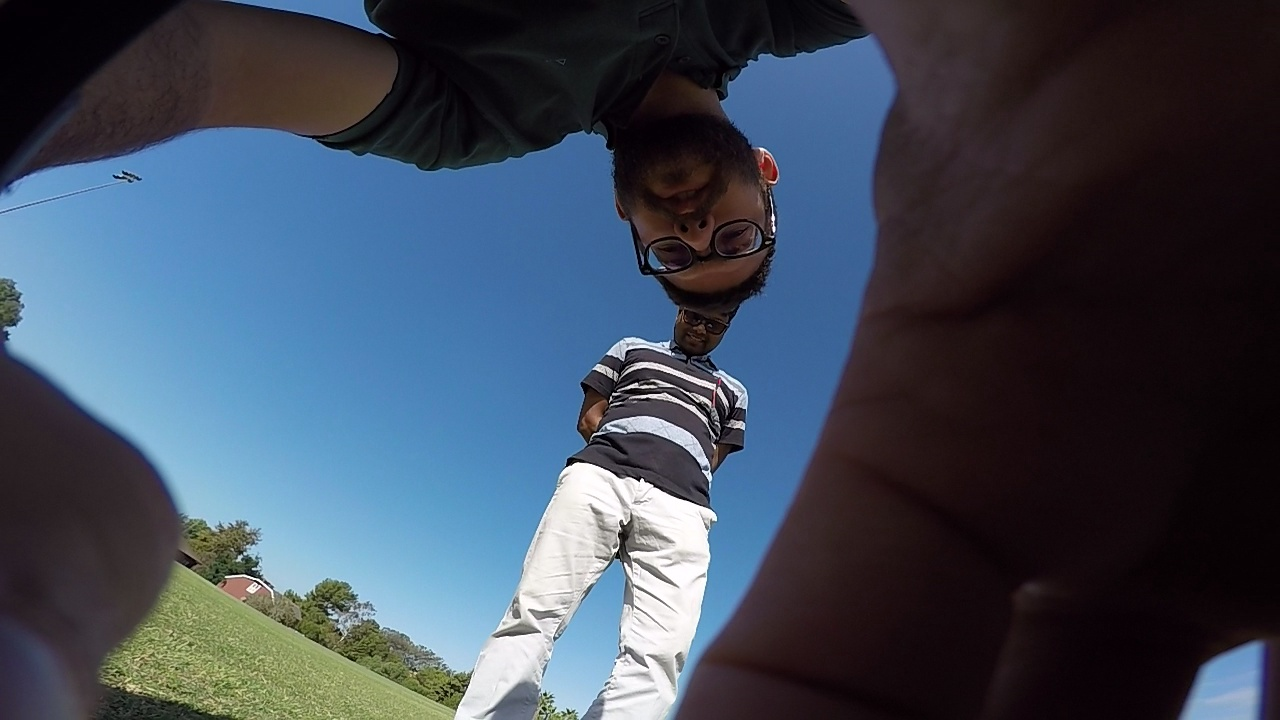person: (105, 2, 1162, 569), (426, 24, 1245, 720), (95, 0, 836, 720), (34, 22, 855, 322), (397, 74, 779, 708), (450, 236, 753, 715), (7, 312, 171, 715)
